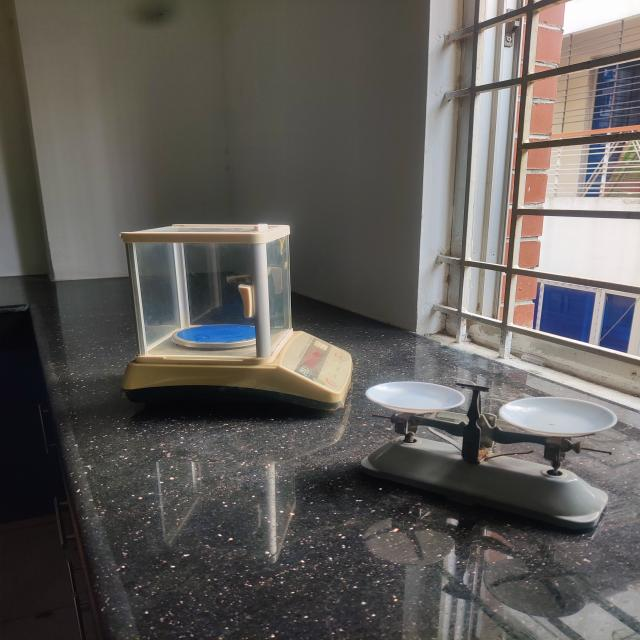Mechanical_Balance_Scale: (356, 344, 632, 563)
Precision_Weight_Scale: (64, 186, 362, 441)
